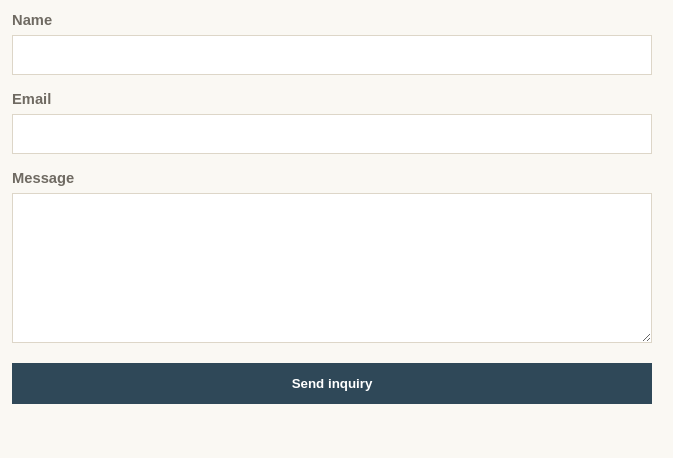
Scenario: ContactForm › submits to the Netlify form skeleton and shows success
This screenshot has width=673, height=458.
Step 1. Type "Taylor" into the field labelled "Name" → (332, 55), box [12,35,652,75]
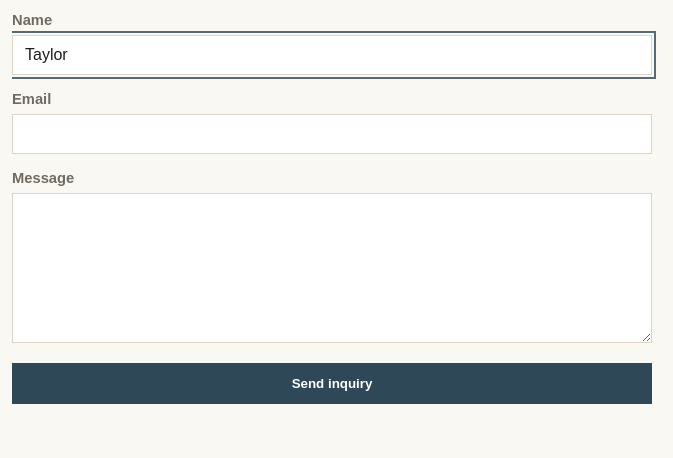
Step 2. Type "taylor@example.com" into the field labelled "Email" → (332, 134), box [12,114,652,154]
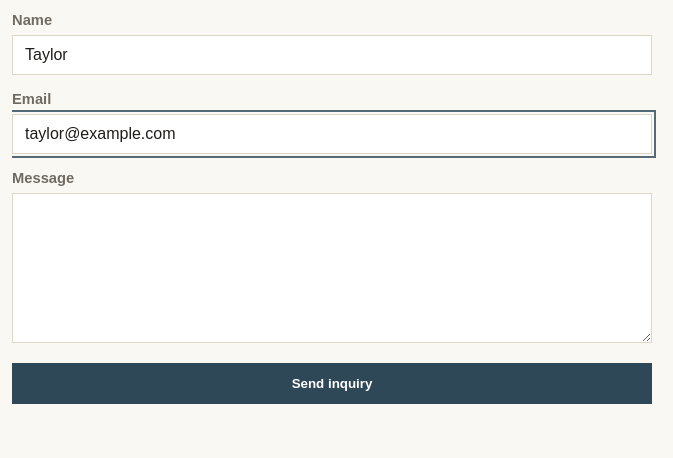
Step 3. Type "I am interested in a painting." into the text box labelled "Message" → (332, 268), box [12,193,652,343]
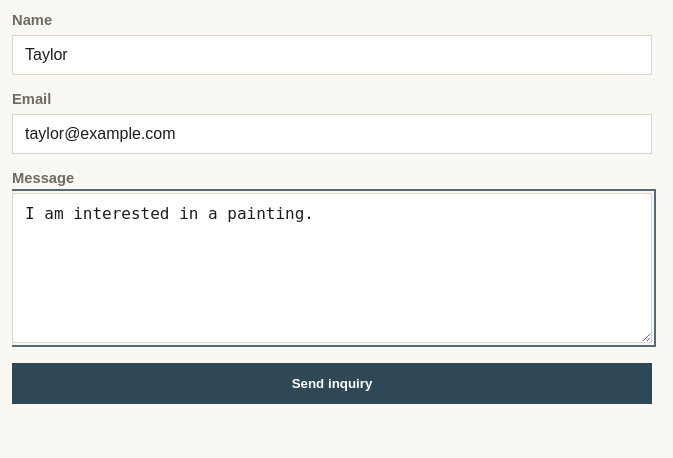
Step 4. Click the button "Send inquiry" → (332, 384), box [12,363,652,404]
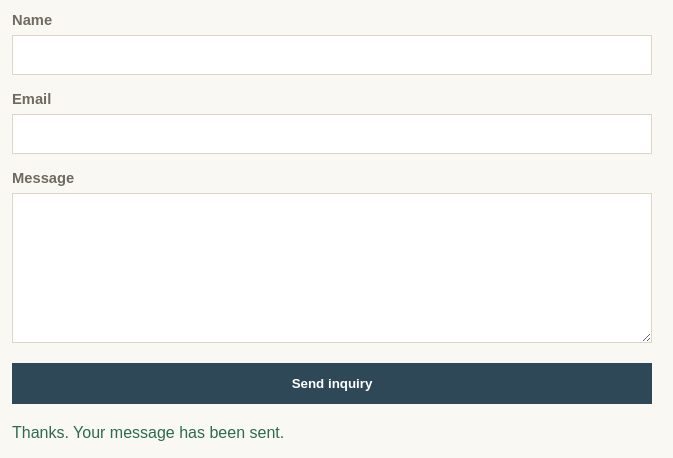
Now the text "Thanks. Your message has been sent." is shown, box [12,424,284,441]
